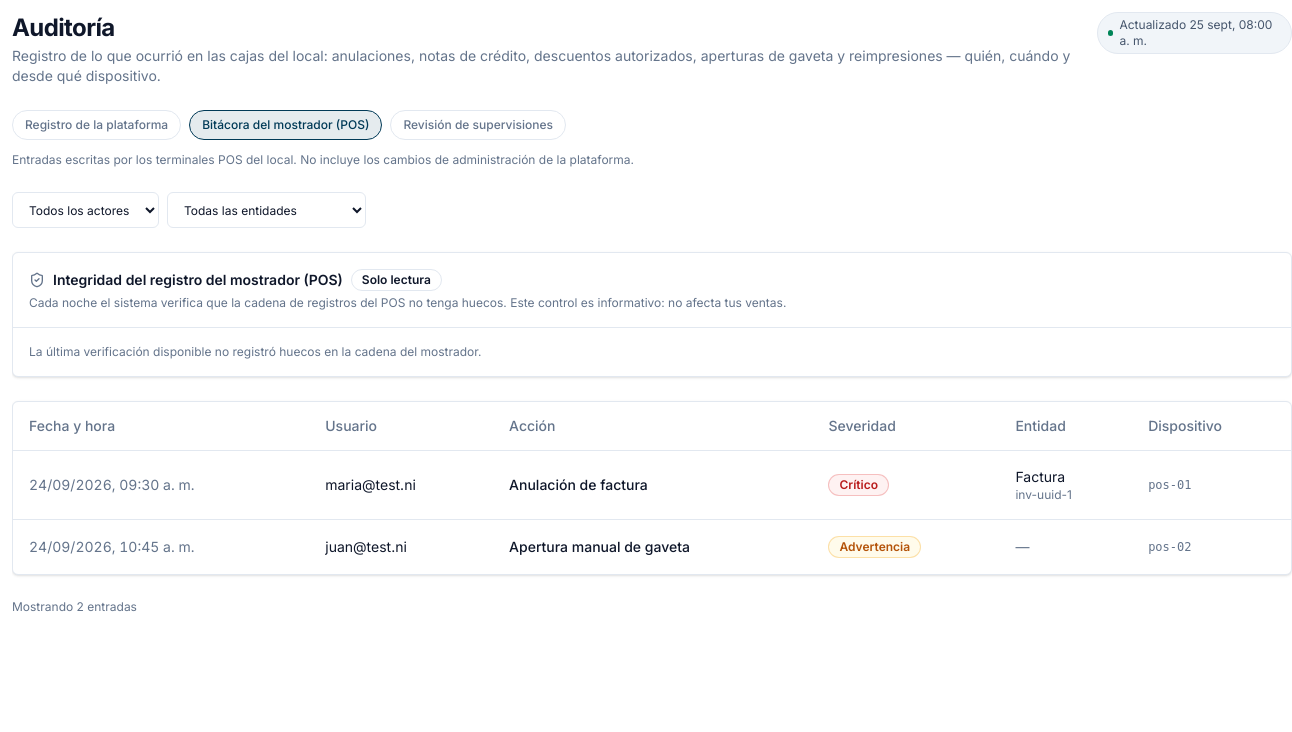
Test: Audit page — POS ledger surface (S4b) › forwards the actor and entity filters to the ledger API and shows them as clearable chips (§14)
Select "maria@test.ni" in the dropdown named "Filtrar por actor" at point(86, 210), box [12,192,159,228]
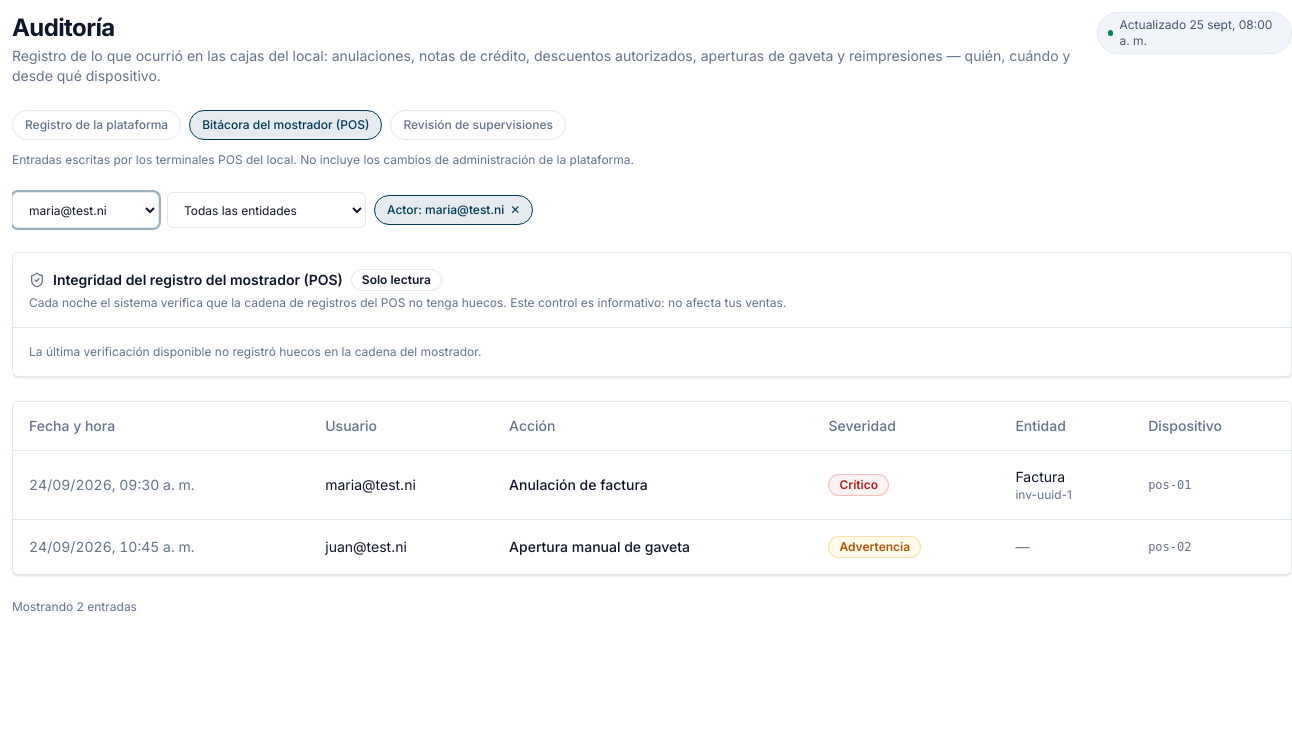
Expected: the text "Actor: maria@test.ni ✕" is shown, [374,195,533,225]
Expected: the button named "Quitar filtro de actor" is shown, [510,202,520,218]
Select "Factura" in the dropdown named "Filtrar por entidad" at point(266, 210), box [167,192,366,228]
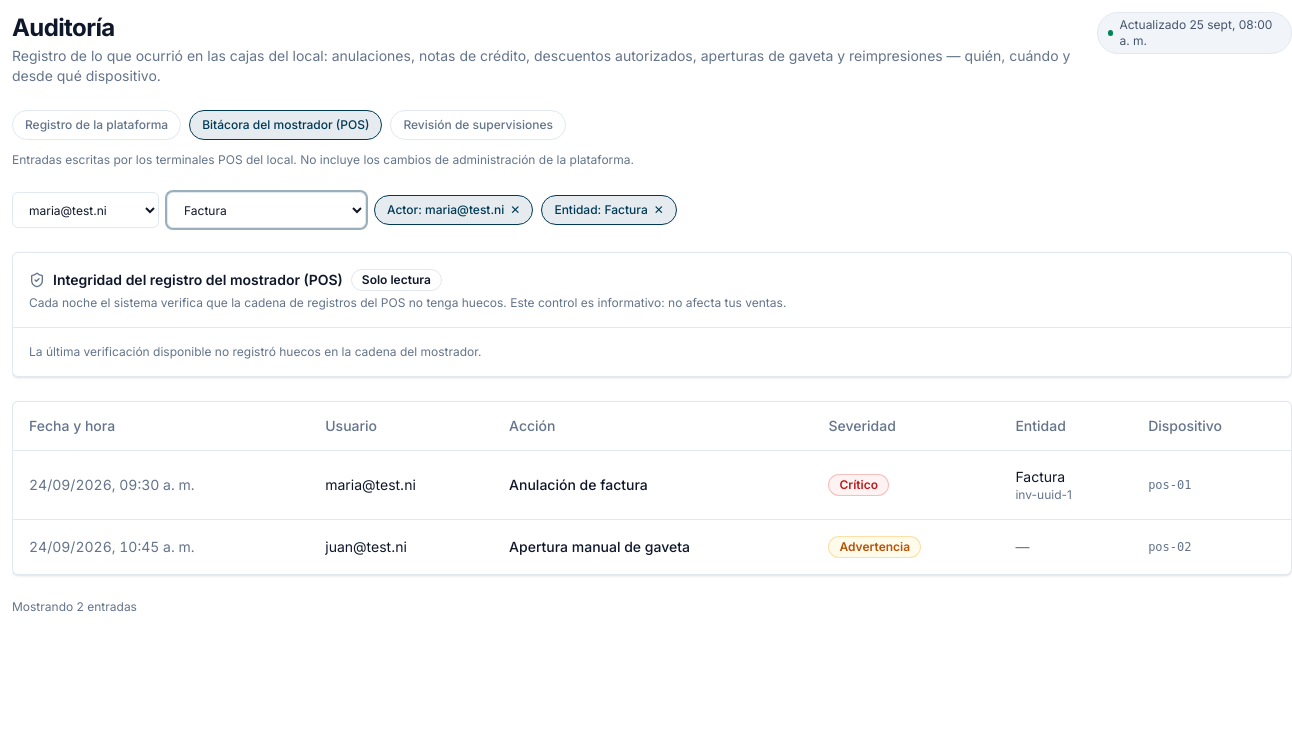
Expected: the text "Entidad: Factura ✕" is shown, [541,195,677,225]
Expected: the button named "Quitar filtro de entidad" is shown, [654,202,664,218]
